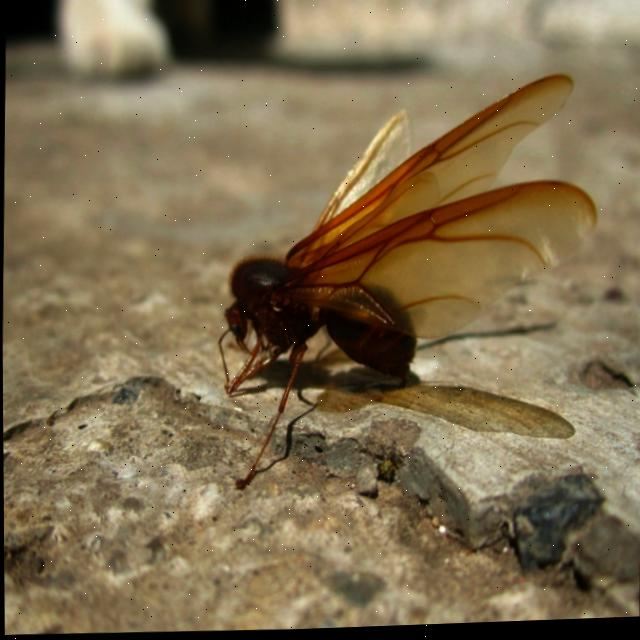Dead-Male-Alate: (212, 68, 602, 506)
